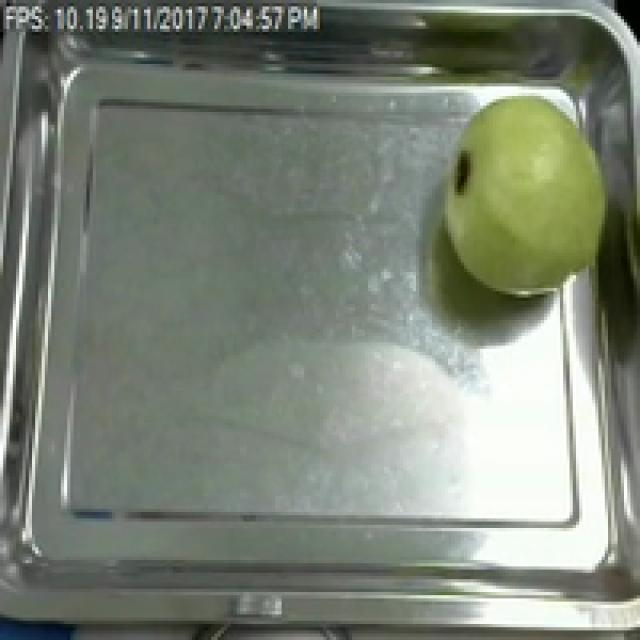Fruit: (426, 80, 627, 307)
